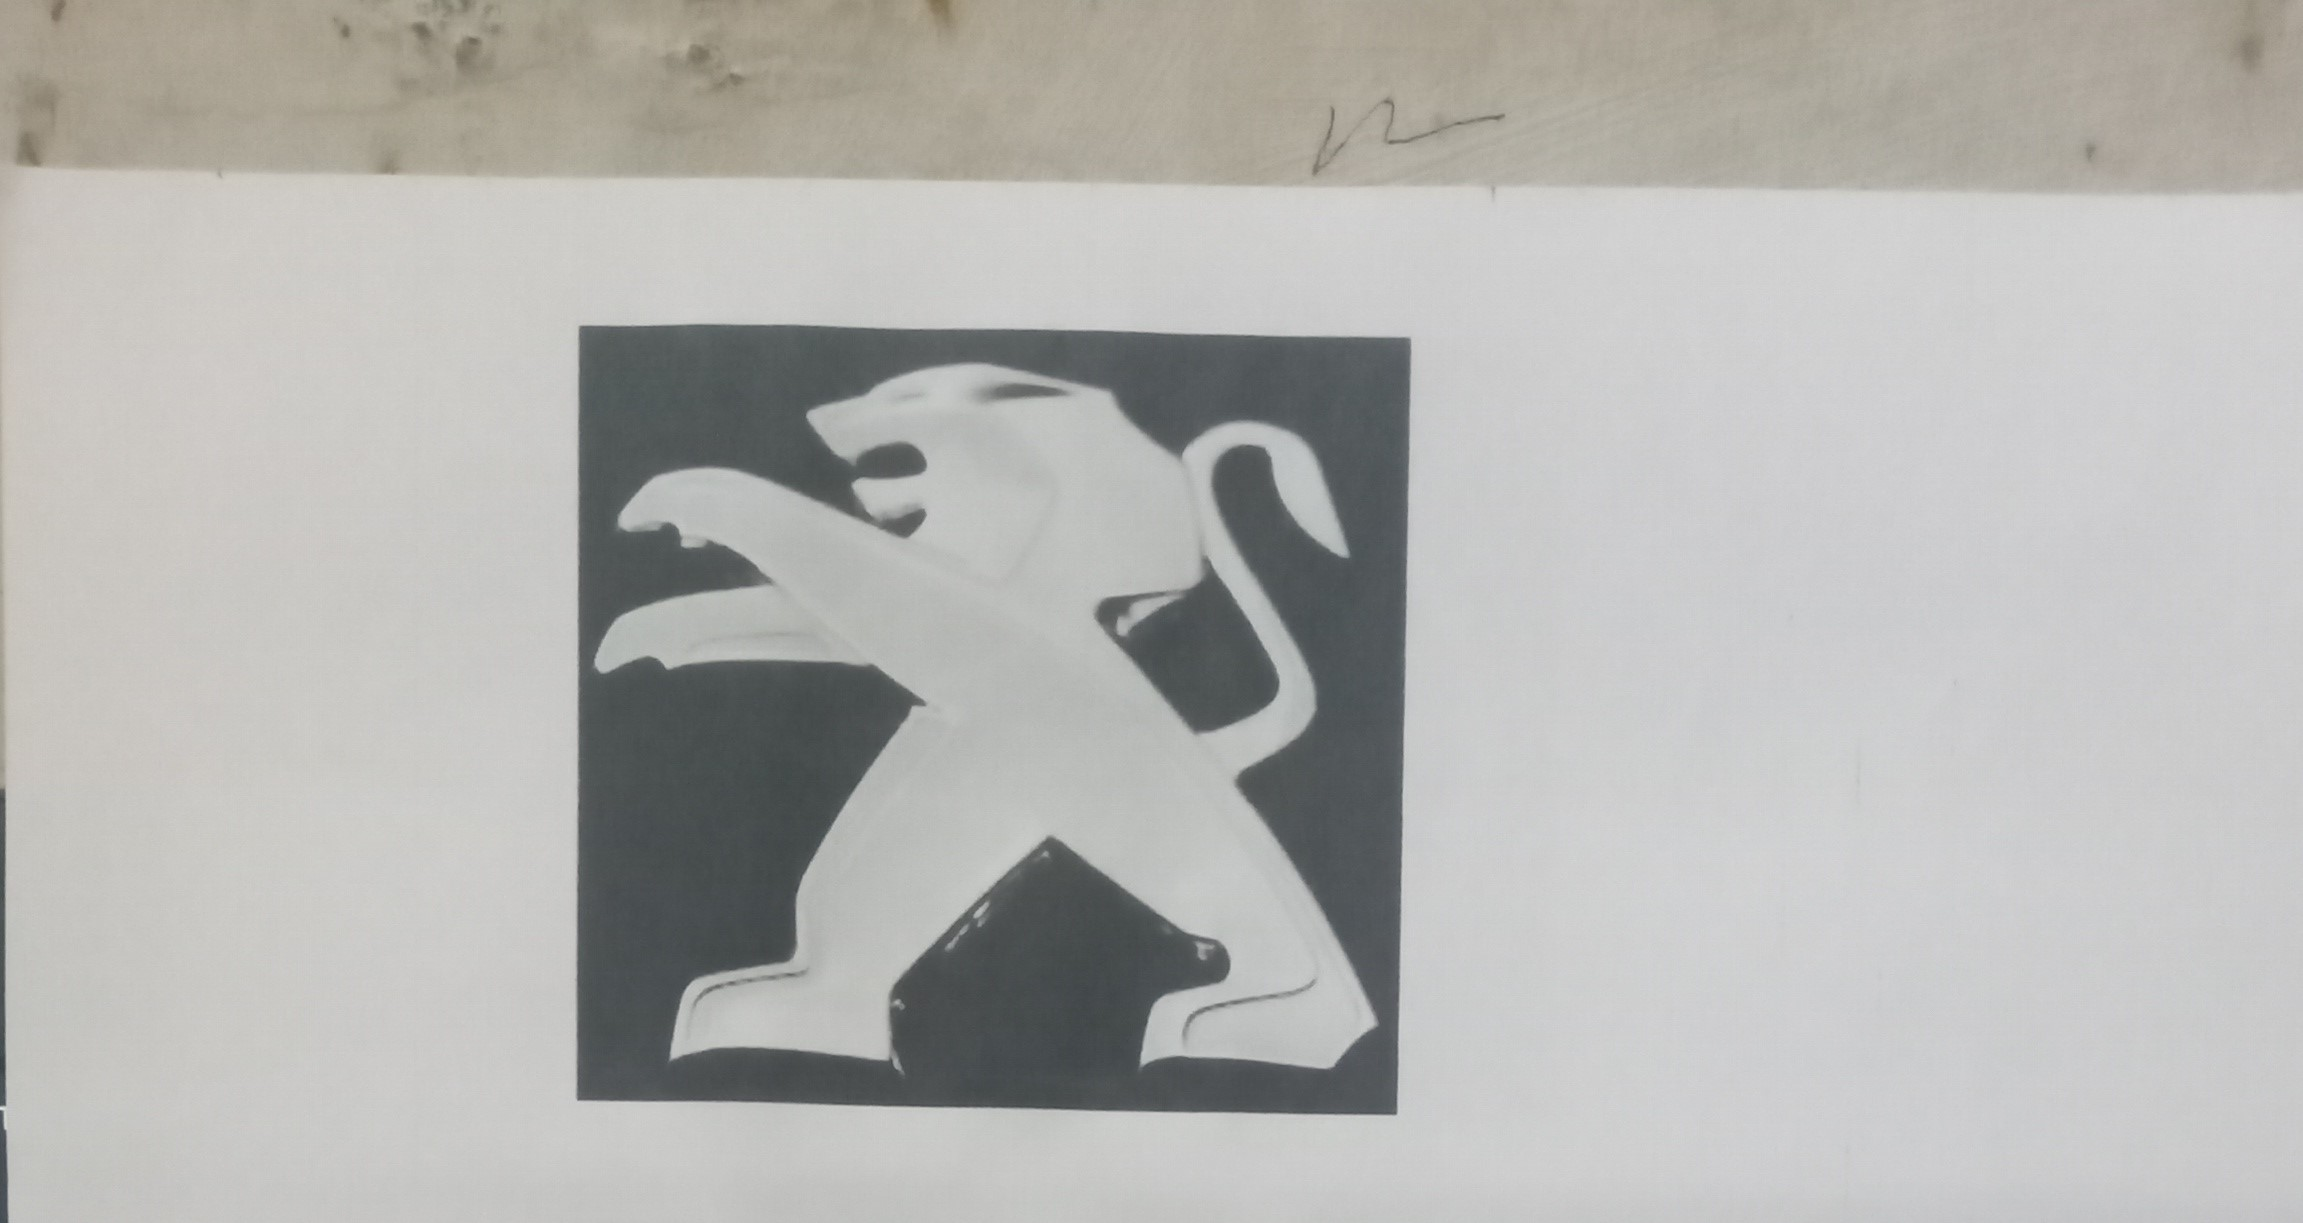Peugeot: (580, 327, 1397, 1118)
